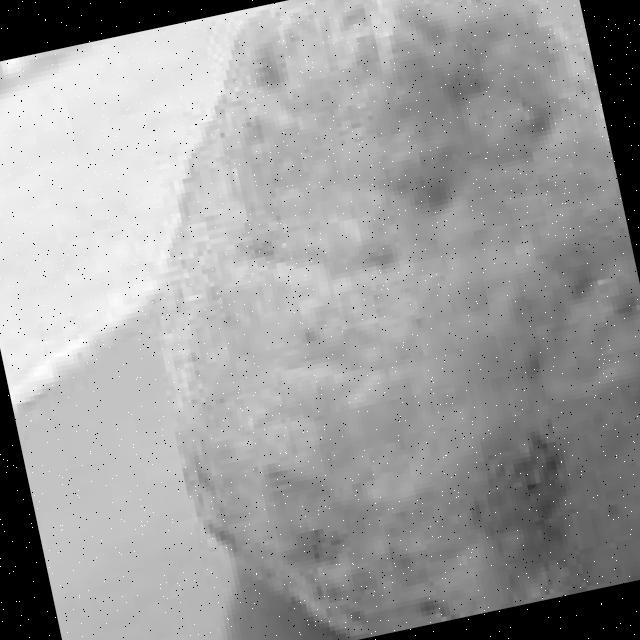Good_Guava 5-7 days: (164, 0, 640, 638)
